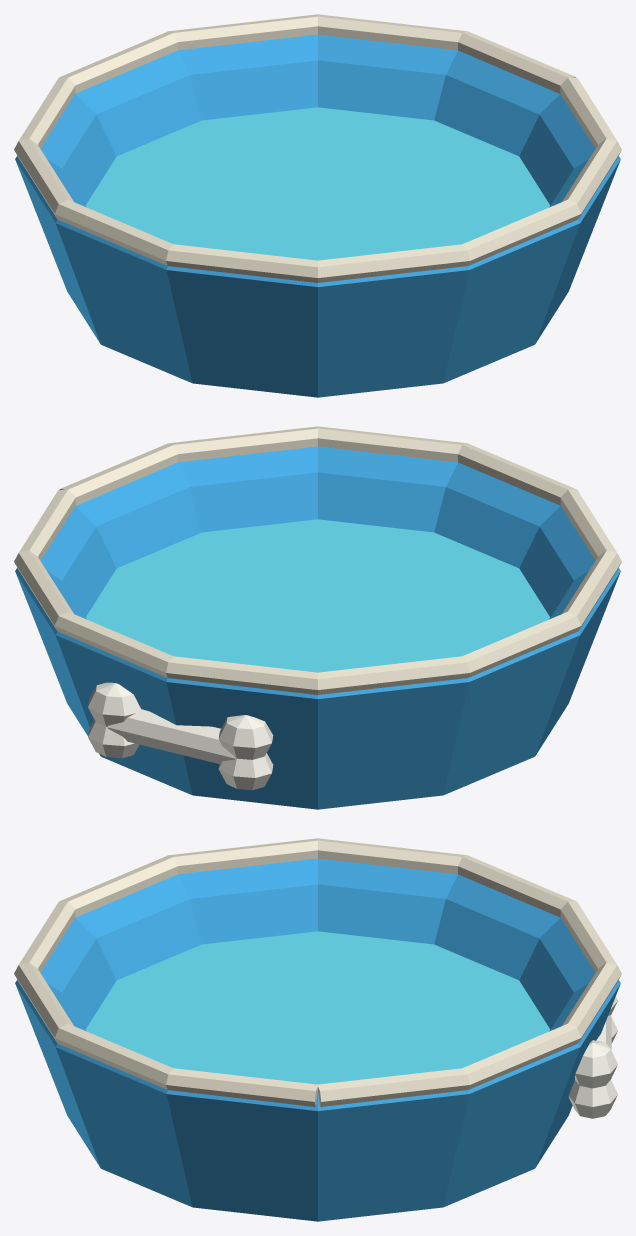
File: bowl.glb
3 views of the same model, one above another, from view 1: azimuth 30°, elevation 25°; view 2: azimuth 150°, elevation 25°; view 3: azimuth 270°, elevation 25° (orthographic).
Visible parts, largest first — view 1: bowl; view 2: bowl; view 3: bowl.
Boxes of the visible parts, bbox=[...] form: bowl: bbox=[14, 14, 621, 397]; bowl: bbox=[14, 426, 621, 809]; bowl: bbox=[14, 838, 621, 1221].
Size of the model in its own units: 0.7042 by 0.22 by 0.7047.
